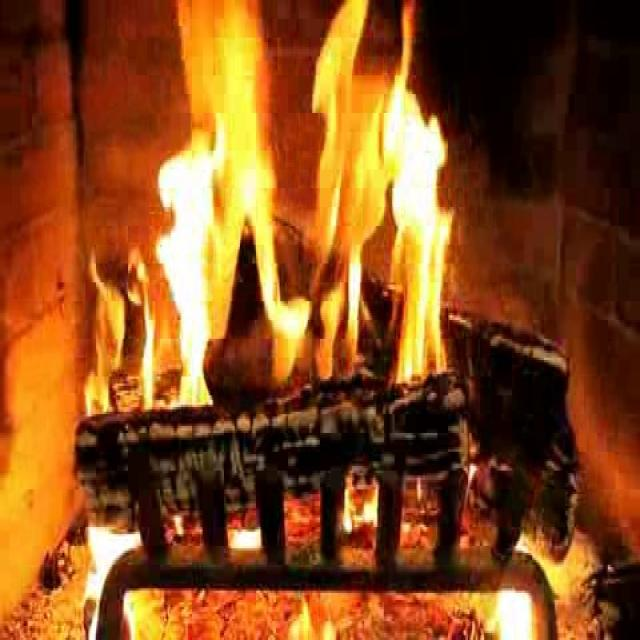fire: (152, 5, 439, 420)
